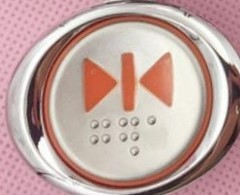Braille: (119, 116, 140, 158), (91, 119, 111, 159), (147, 116, 168, 153)
